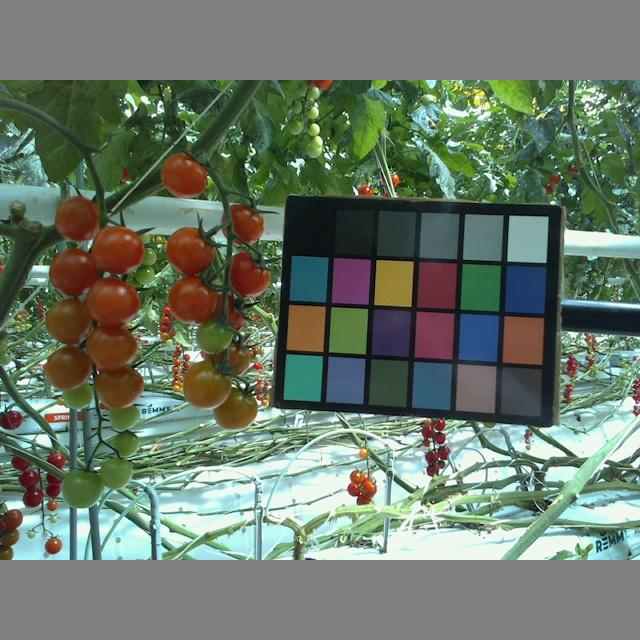green: (61, 468, 104, 508), (194, 318, 234, 355), (98, 454, 133, 490), (61, 380, 93, 411), (105, 401, 138, 431), (111, 430, 139, 457)
pink: (82, 323, 138, 371), (182, 358, 233, 410), (85, 276, 139, 325), (167, 274, 218, 325), (90, 223, 144, 271), (94, 361, 144, 411), (160, 149, 209, 199), (49, 247, 97, 297), (166, 227, 215, 275), (42, 346, 94, 391), (217, 202, 266, 249), (54, 194, 101, 243), (225, 251, 270, 300), (211, 385, 259, 430), (43, 300, 91, 345)
